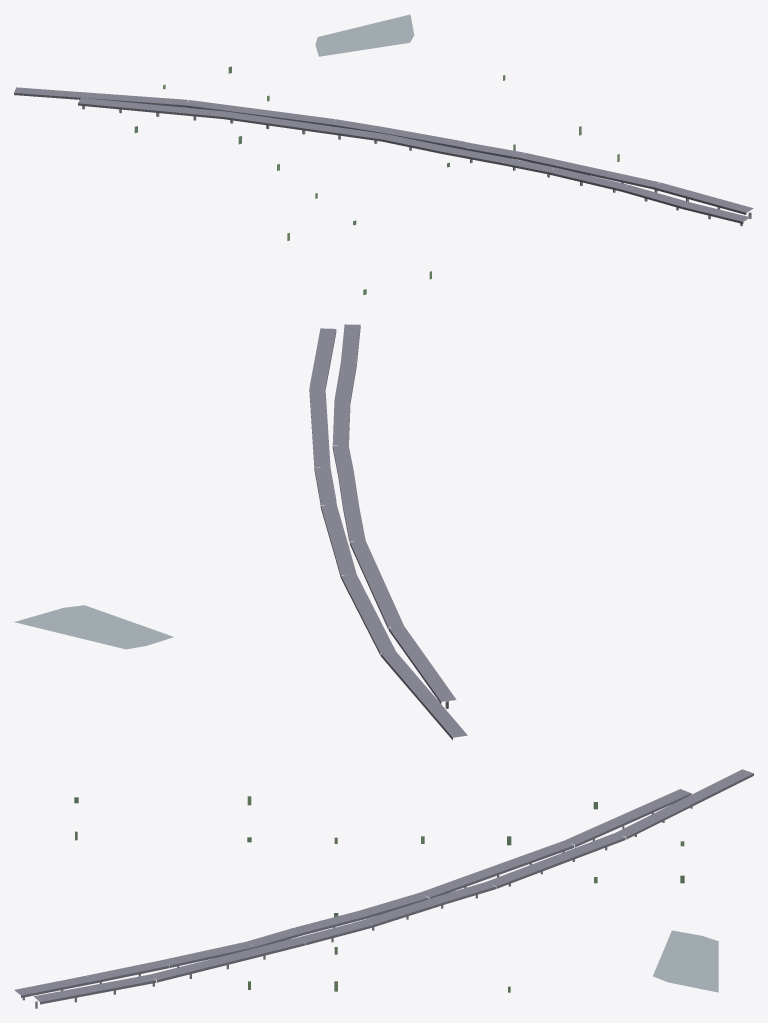
3 renders of one model, top to bottom at view 1: azimuth 30°, elevation 25°; view 2: azimuth 150°, elevation 25°; view 3: azimuth 270°, elevation 25°, orthographic. The views are drawn at different scales.
Bounding box in the file's own units: 392 × 11.86 × 513.
